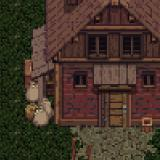Interaction: (58, 144, 102, 160)
Obstacle: (5, 0, 160, 160)
